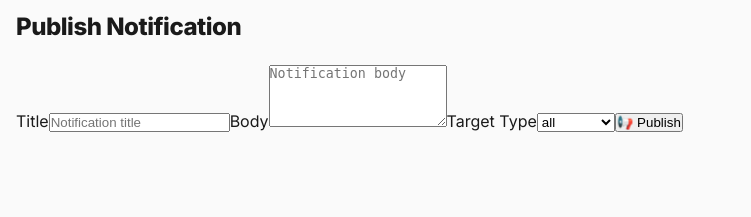
Test: AdminNotifications › shows validation error when fields empty
Click the button with test id "publish-btn" at (649, 122), box [615, 113, 683, 132]
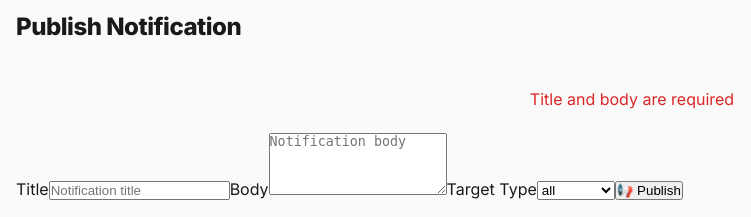
Now the text "Title and body are required" is shown, box [530, 89, 734, 109]
